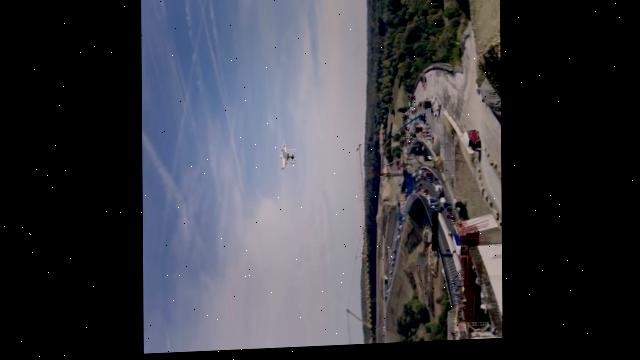drone: (276, 142, 296, 176)
